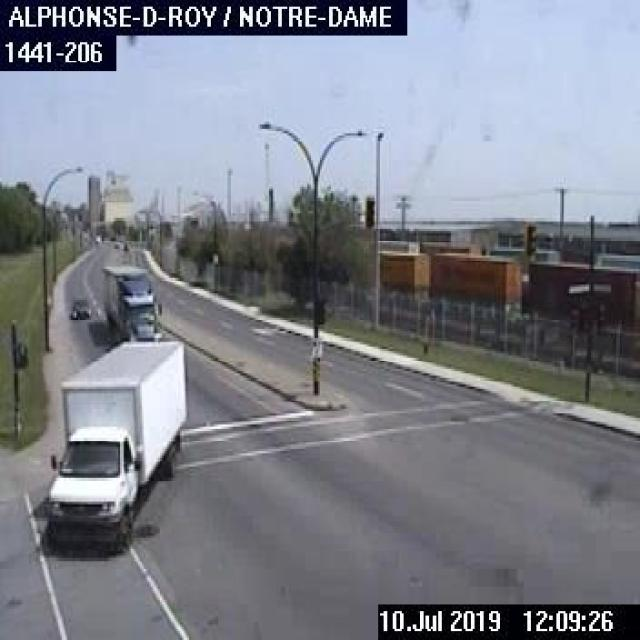vehicle: (36, 339, 186, 553), (102, 261, 162, 340), (68, 296, 92, 319)
